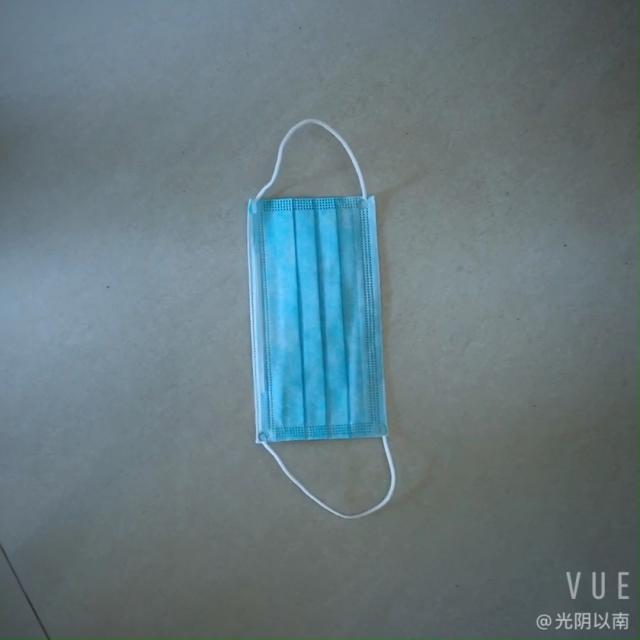face mask: (234, 184, 405, 475)
